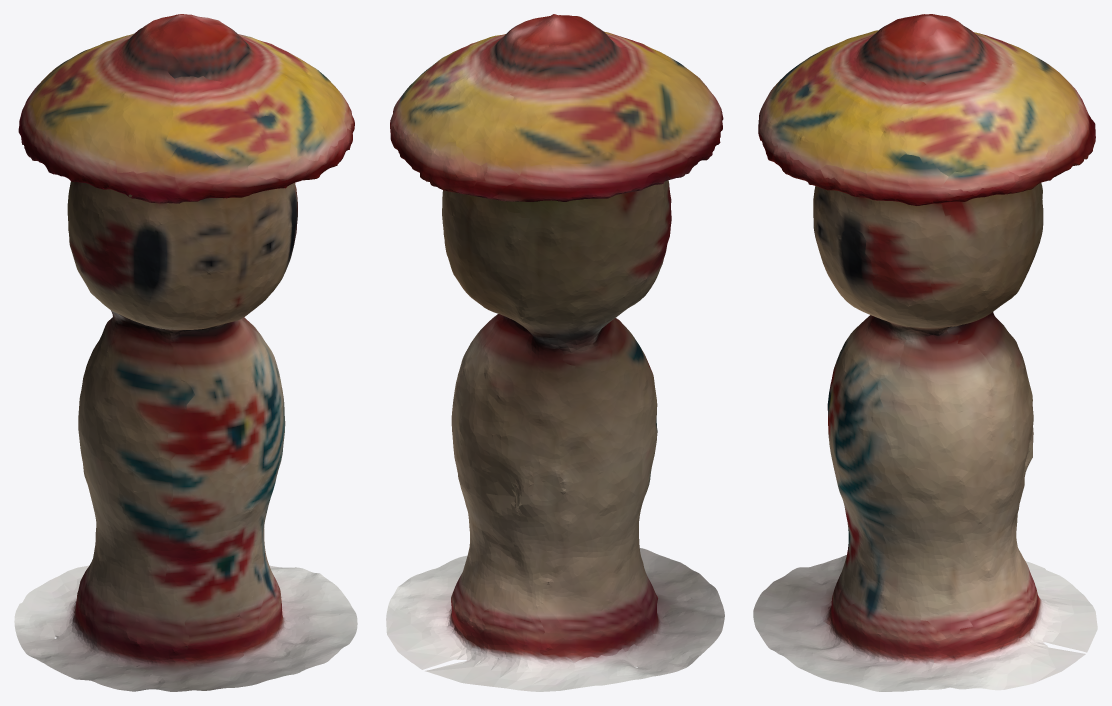
The model's file is kokeshiS006.glb.
3 views of the same model, side by side, from view 1: azimuth 30°, elevation 25°; view 2: azimuth 150°, elevation 25°; view 3: azimuth 270°, elevation 25° (orthographic).
Parts seen in each view (by area): view 1: mesh; view 2: mesh; view 3: mesh.
Part boxes in pixels (x1,y1,x2,y2): mesh: (14,14,357,691); mesh: (386,14,724,691); mesh: (753,14,1097,691).
Bounding box in the file's own units: 0.0586 × 0.1162 × 0.0594.
1 material, 1 textured.
